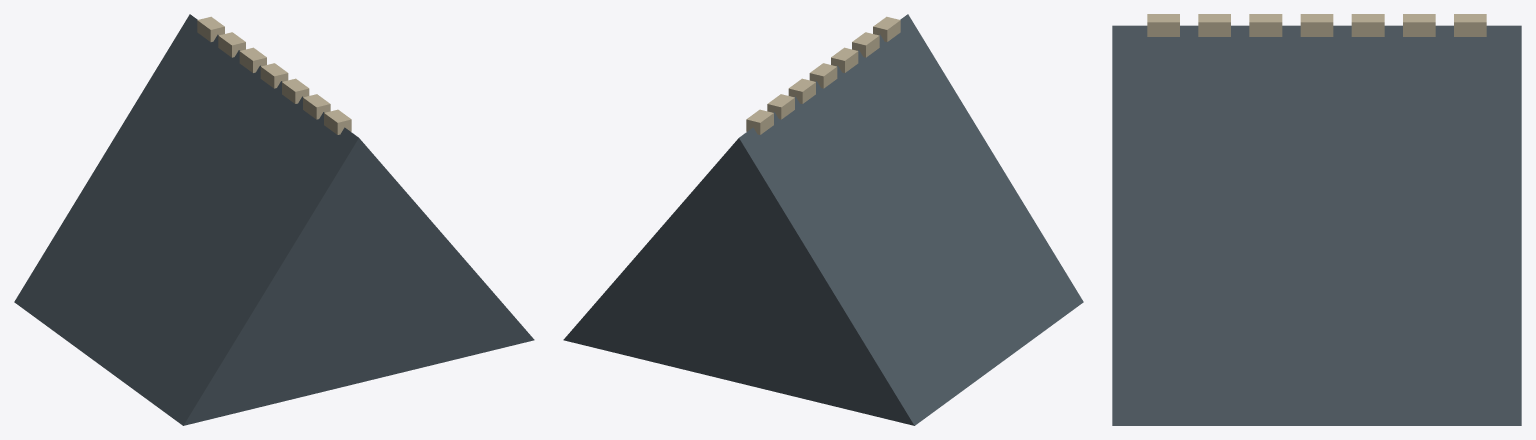
File: HeartRoofGable_LOD0.fbx
3 views of the same model, side by side, from view 1: azimuth 30°, elevation 25°; view 2: azimuth 150°, elevation 25°; view 3: azimuth 270°, elevation 25° (orthographic). The views are drawn at different scales.
Visible parts, largest first — view 1: HeartRoofGable_LOD0; view 2: HeartRoofGable_LOD0; view 3: HeartRoofGable_LOD0.
Part boxes in pixels (x1,y1,x2,y2): HeartRoofGable_LOD0: [14, 14, 534, 425]; HeartRoofGable_LOD0: [563, 14, 1083, 425]; HeartRoofGable_LOD0: [1112, 14, 1521, 425].
Size of the model in its own units: 600 by 410 by 500.
